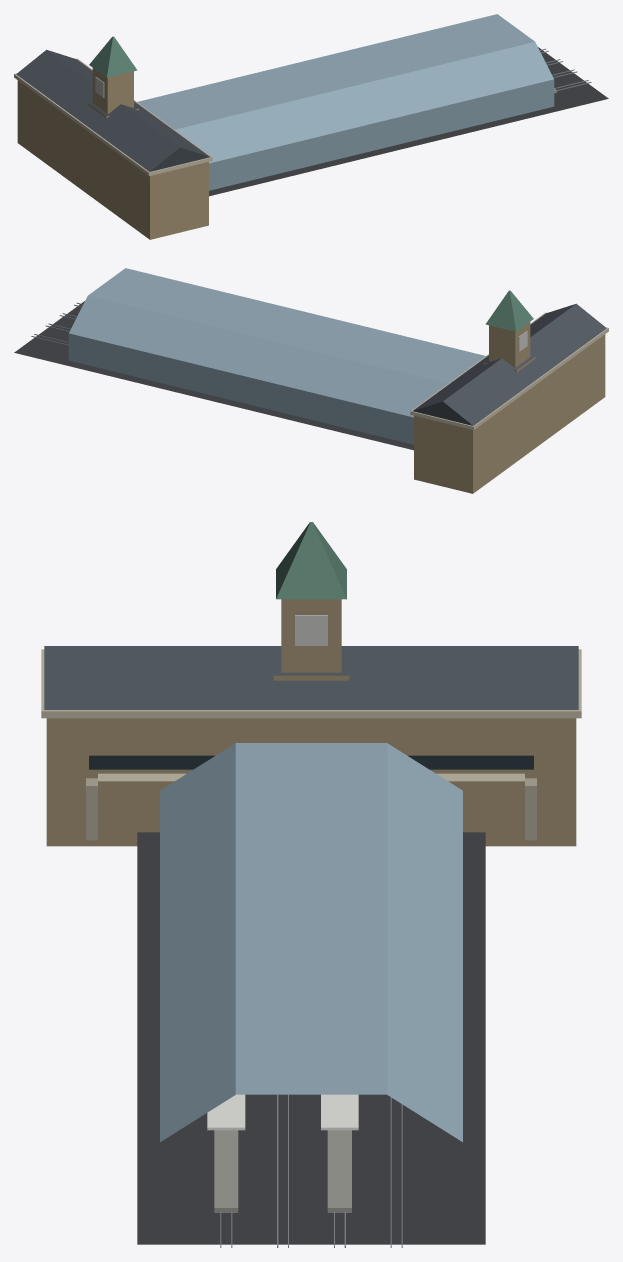
The model's file is mobile-low.glb.
3 views of the same model, one above another, from view 1: azimuth 30°, elevation 25°; view 2: azimuth 150°, elevation 25°; view 3: azimuth 270°, elevation 25° (orthographic). The views are drawn at different scales.
Visible parts, largest first — view 1: lm.rail-terminus; view 2: lm.rail-terminus; view 3: lm.rail-terminus.
Part boxes in pixels (x1,y1,x2,y2): lm.rail-terminus: (14,14,608,239); lm.rail-terminus: (14,268,608,493); lm.rail-terminus: (41,522,581,1247).
Bounding box in the file's own units: 149 × 43 × 71.4.
